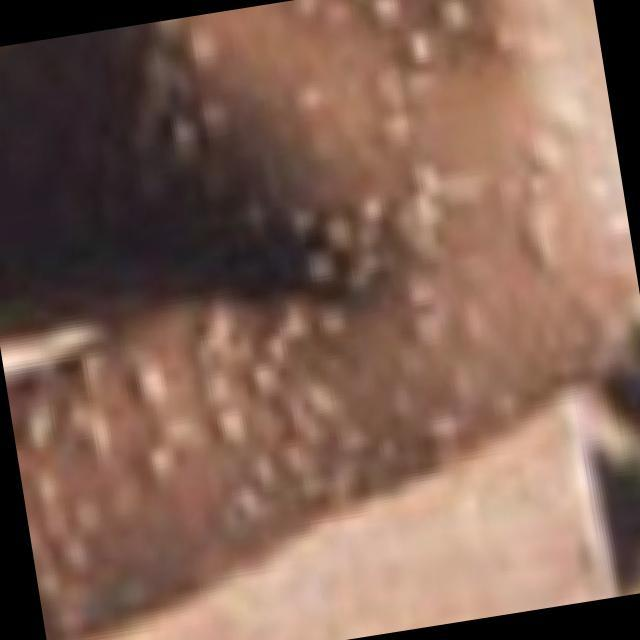Eczema: (13, 6, 610, 573)
